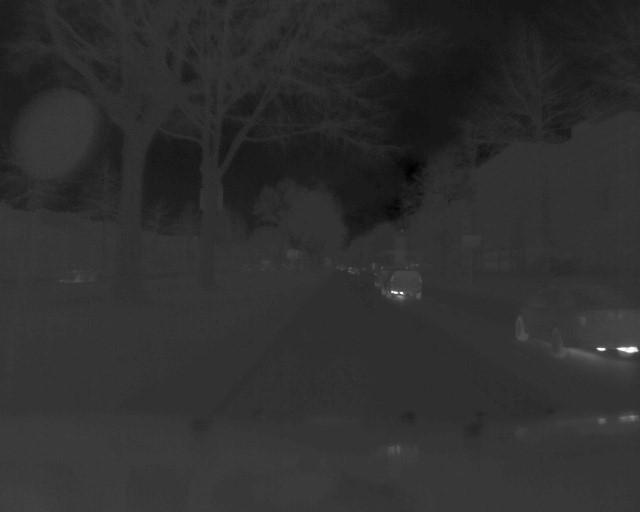car: (511, 278, 640, 367), (380, 269, 426, 300)
